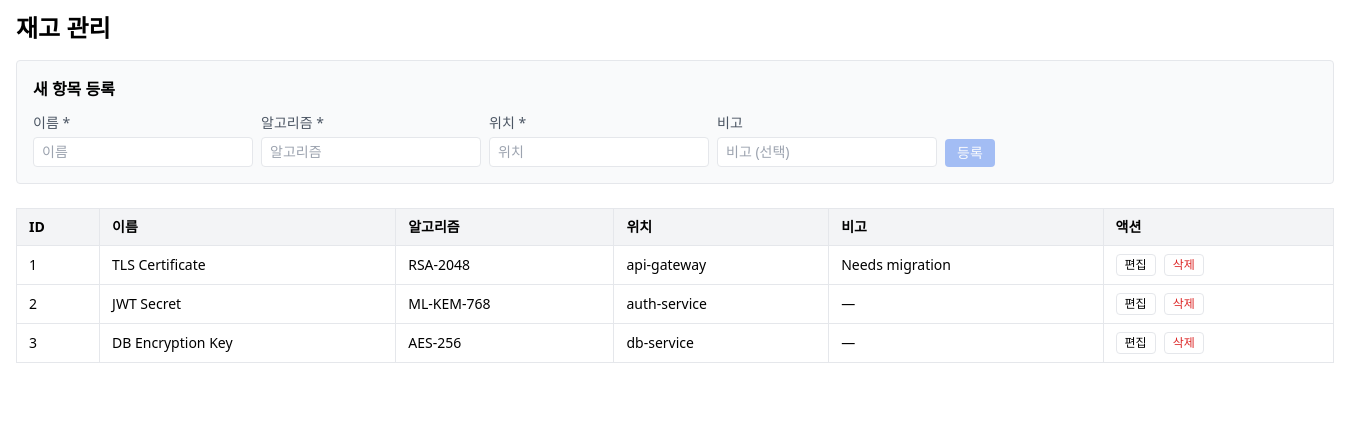
Scenario: InventoryPage › 편집 필수 필드 비우면 저장 버튼 disabled
expect the text "TLS Certificate" is shown: met, box [100, 246, 396, 284]
Click the button with aria-label "편집 TLS Certificate".
click(1136, 265)  # box [1116, 254, 1156, 276]
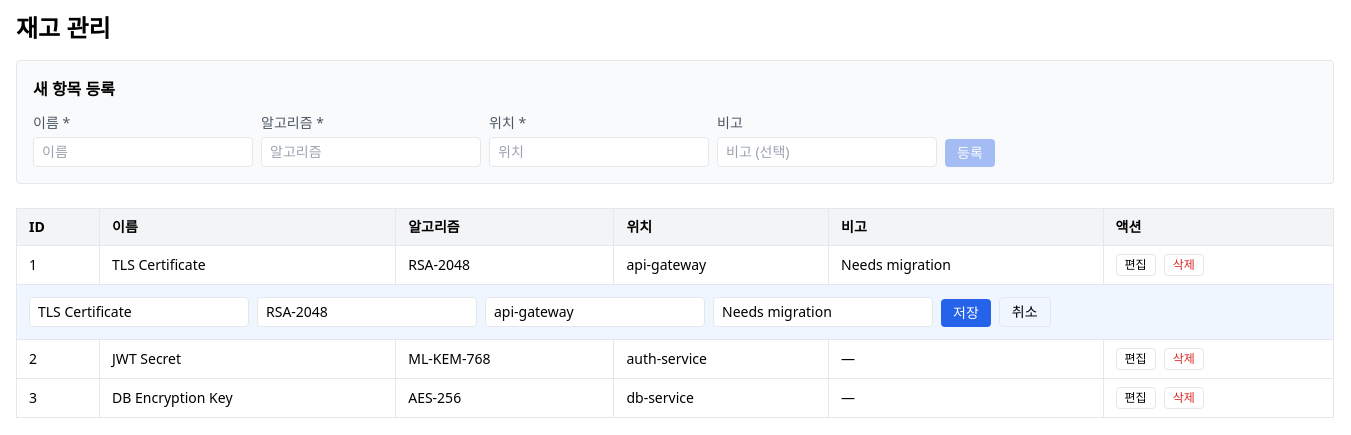
Clear the field named "편집 이름" at point(139, 312), box [29, 297, 249, 327]
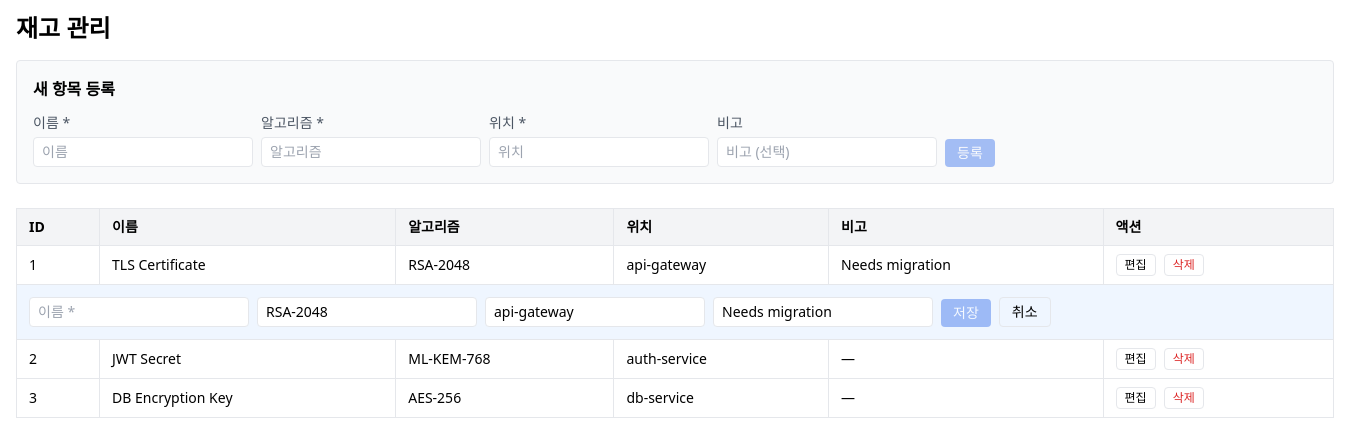
expect the button "저장" is disabled: met, box [941, 299, 991, 327]
